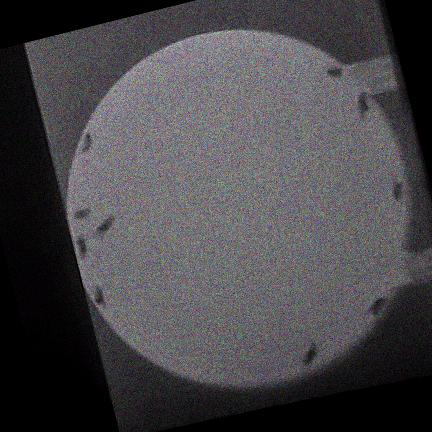fly: (301, 342, 318, 368), (365, 297, 385, 316), (95, 215, 113, 236), (357, 93, 369, 118), (75, 235, 86, 259), (93, 285, 105, 307), (79, 133, 92, 152), (325, 66, 342, 78), (73, 208, 90, 220), (392, 181, 402, 200)
